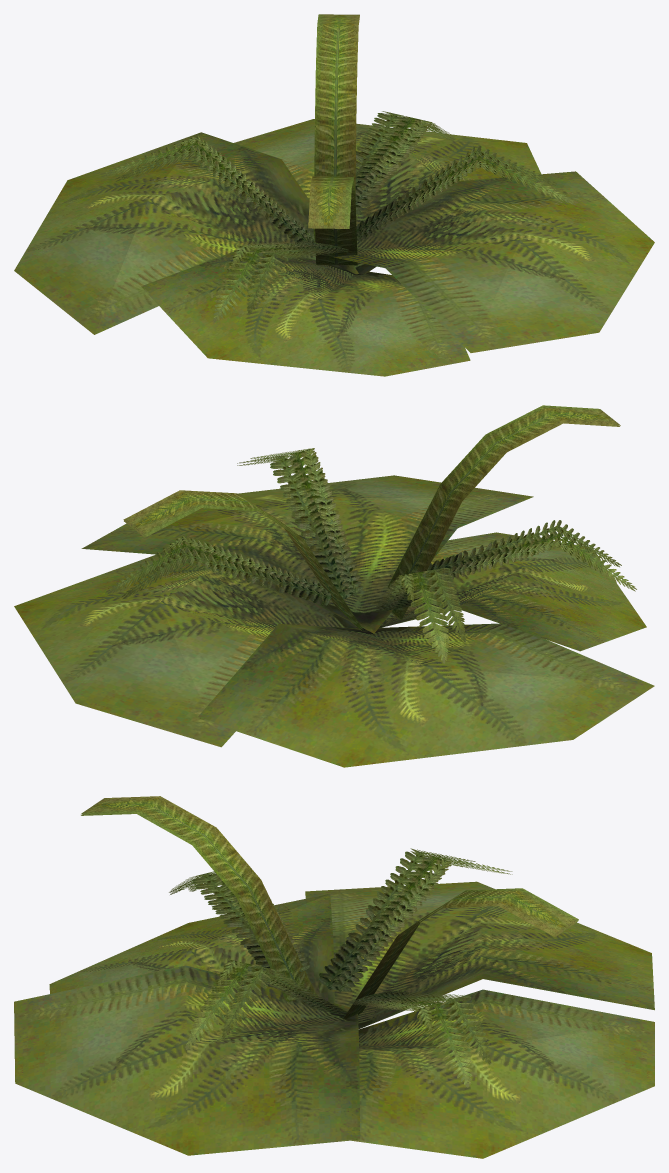
Rendered from frst_fern_olive_sm_l1.fbx.
3 renders of one model, top to bottom at view 1: azimuth 30°, elevation 25°; view 2: azimuth 150°, elevation 25°; view 3: azimuth 270°, elevation 25°, orthographic. The views are drawn at different scales.
Parts seen in each view (by area): view 1: mesh_node; view 2: mesh_node; view 3: mesh_node.
Boxes of the visible parts, box(x1,y1,x2,y2) form: mesh_node: box(14, 14, 654, 376); mesh_node: box(14, 405, 654, 767); mesh_node: box(14, 796, 654, 1158).
Bounding box in the file's own units: 2.34 × 0.782 × 2.28.
